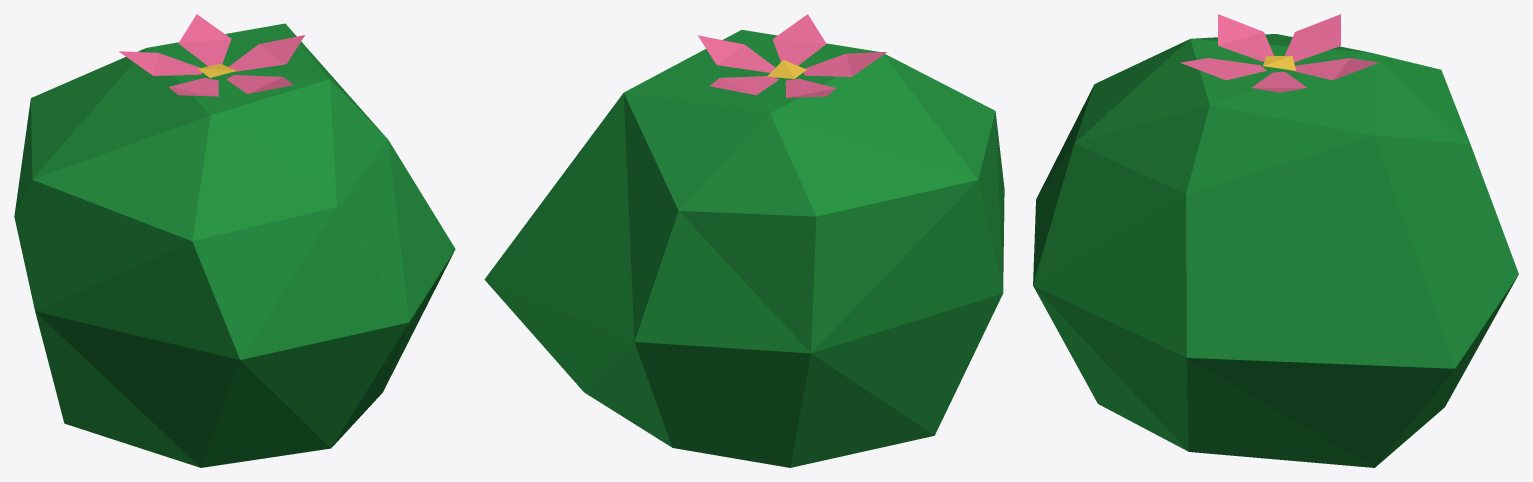
File: cactus_round.fbx
3 views of the same model, side by side, from view 1: azimuth 30°, elevation 25°; view 2: azimuth 150°, elevation 25°; view 3: azimuth 270°, elevation 25° (orthographic). The views are drawn at different scales.
Visible parts, largest first — view 1: cactus_round; view 2: cactus_round; view 3: cactus_round.
Boxes of the visible parts, <box> form: cactus_round: <box>14,14,455,467</box>; cactus_round: <box>484,14,1004,467</box>; cactus_round: <box>1033,14,1518,467</box>.
Size of the model in its own units: 0.9 by 0.7 by 0.9.
